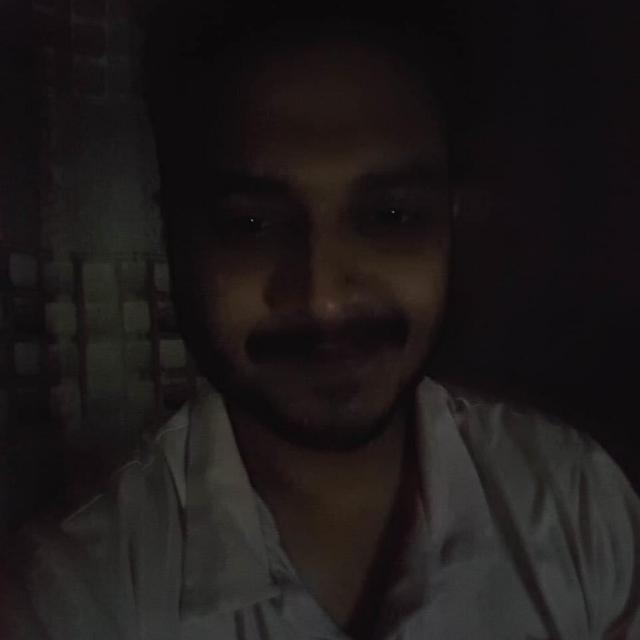Happy: (63, 55, 530, 493)
